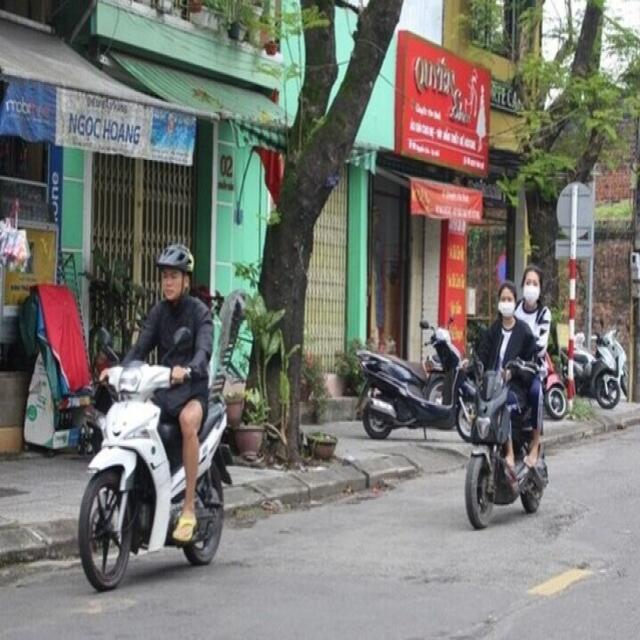helmet: (156, 244, 194, 273)
